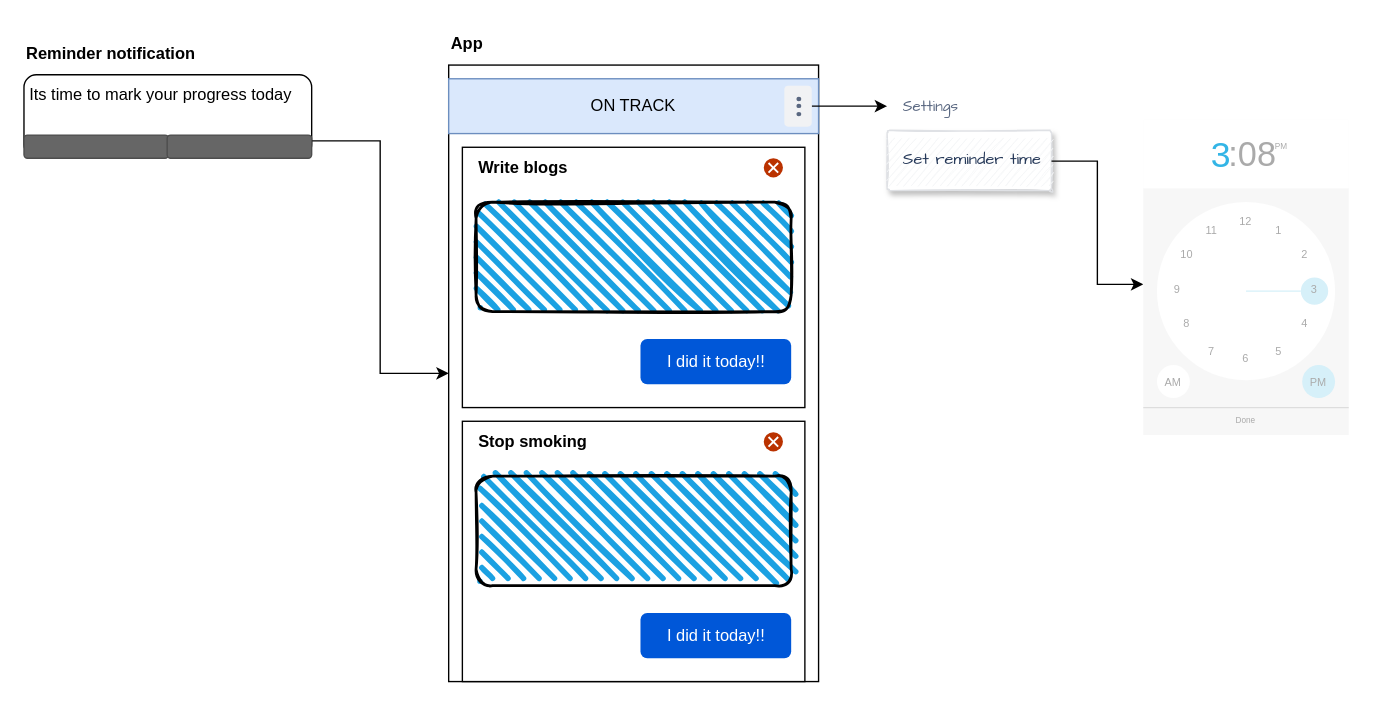
The diagram is 1373 pixels wide and 706 high, and some of its shapes have lost their labels. Each missing label, with the centre of its shape:
Lets mark it: pixel 239 146
Skip today: pixel 96 146
